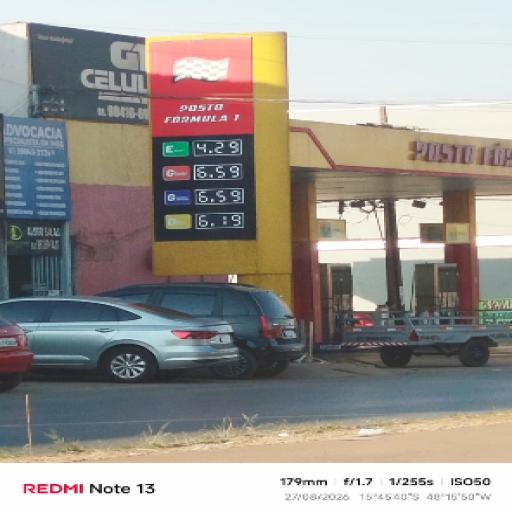ETANOL: (163, 142, 189, 155)
GASOLINA AD: (165, 190, 192, 205)
GASOLINA C: (163, 166, 191, 180)
S500: (165, 215, 192, 228)
placa: (147, 36, 289, 272)
preco: (193, 140, 243, 157), (194, 189, 244, 205), (195, 213, 244, 229), (195, 164, 242, 179)
